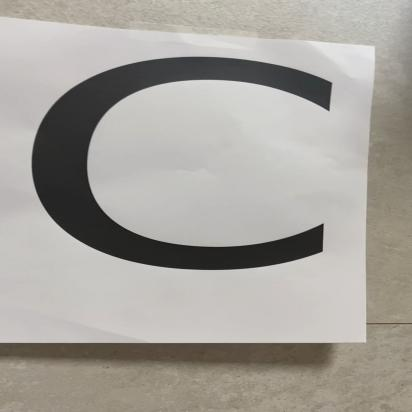seat: (6, 22, 362, 356)
